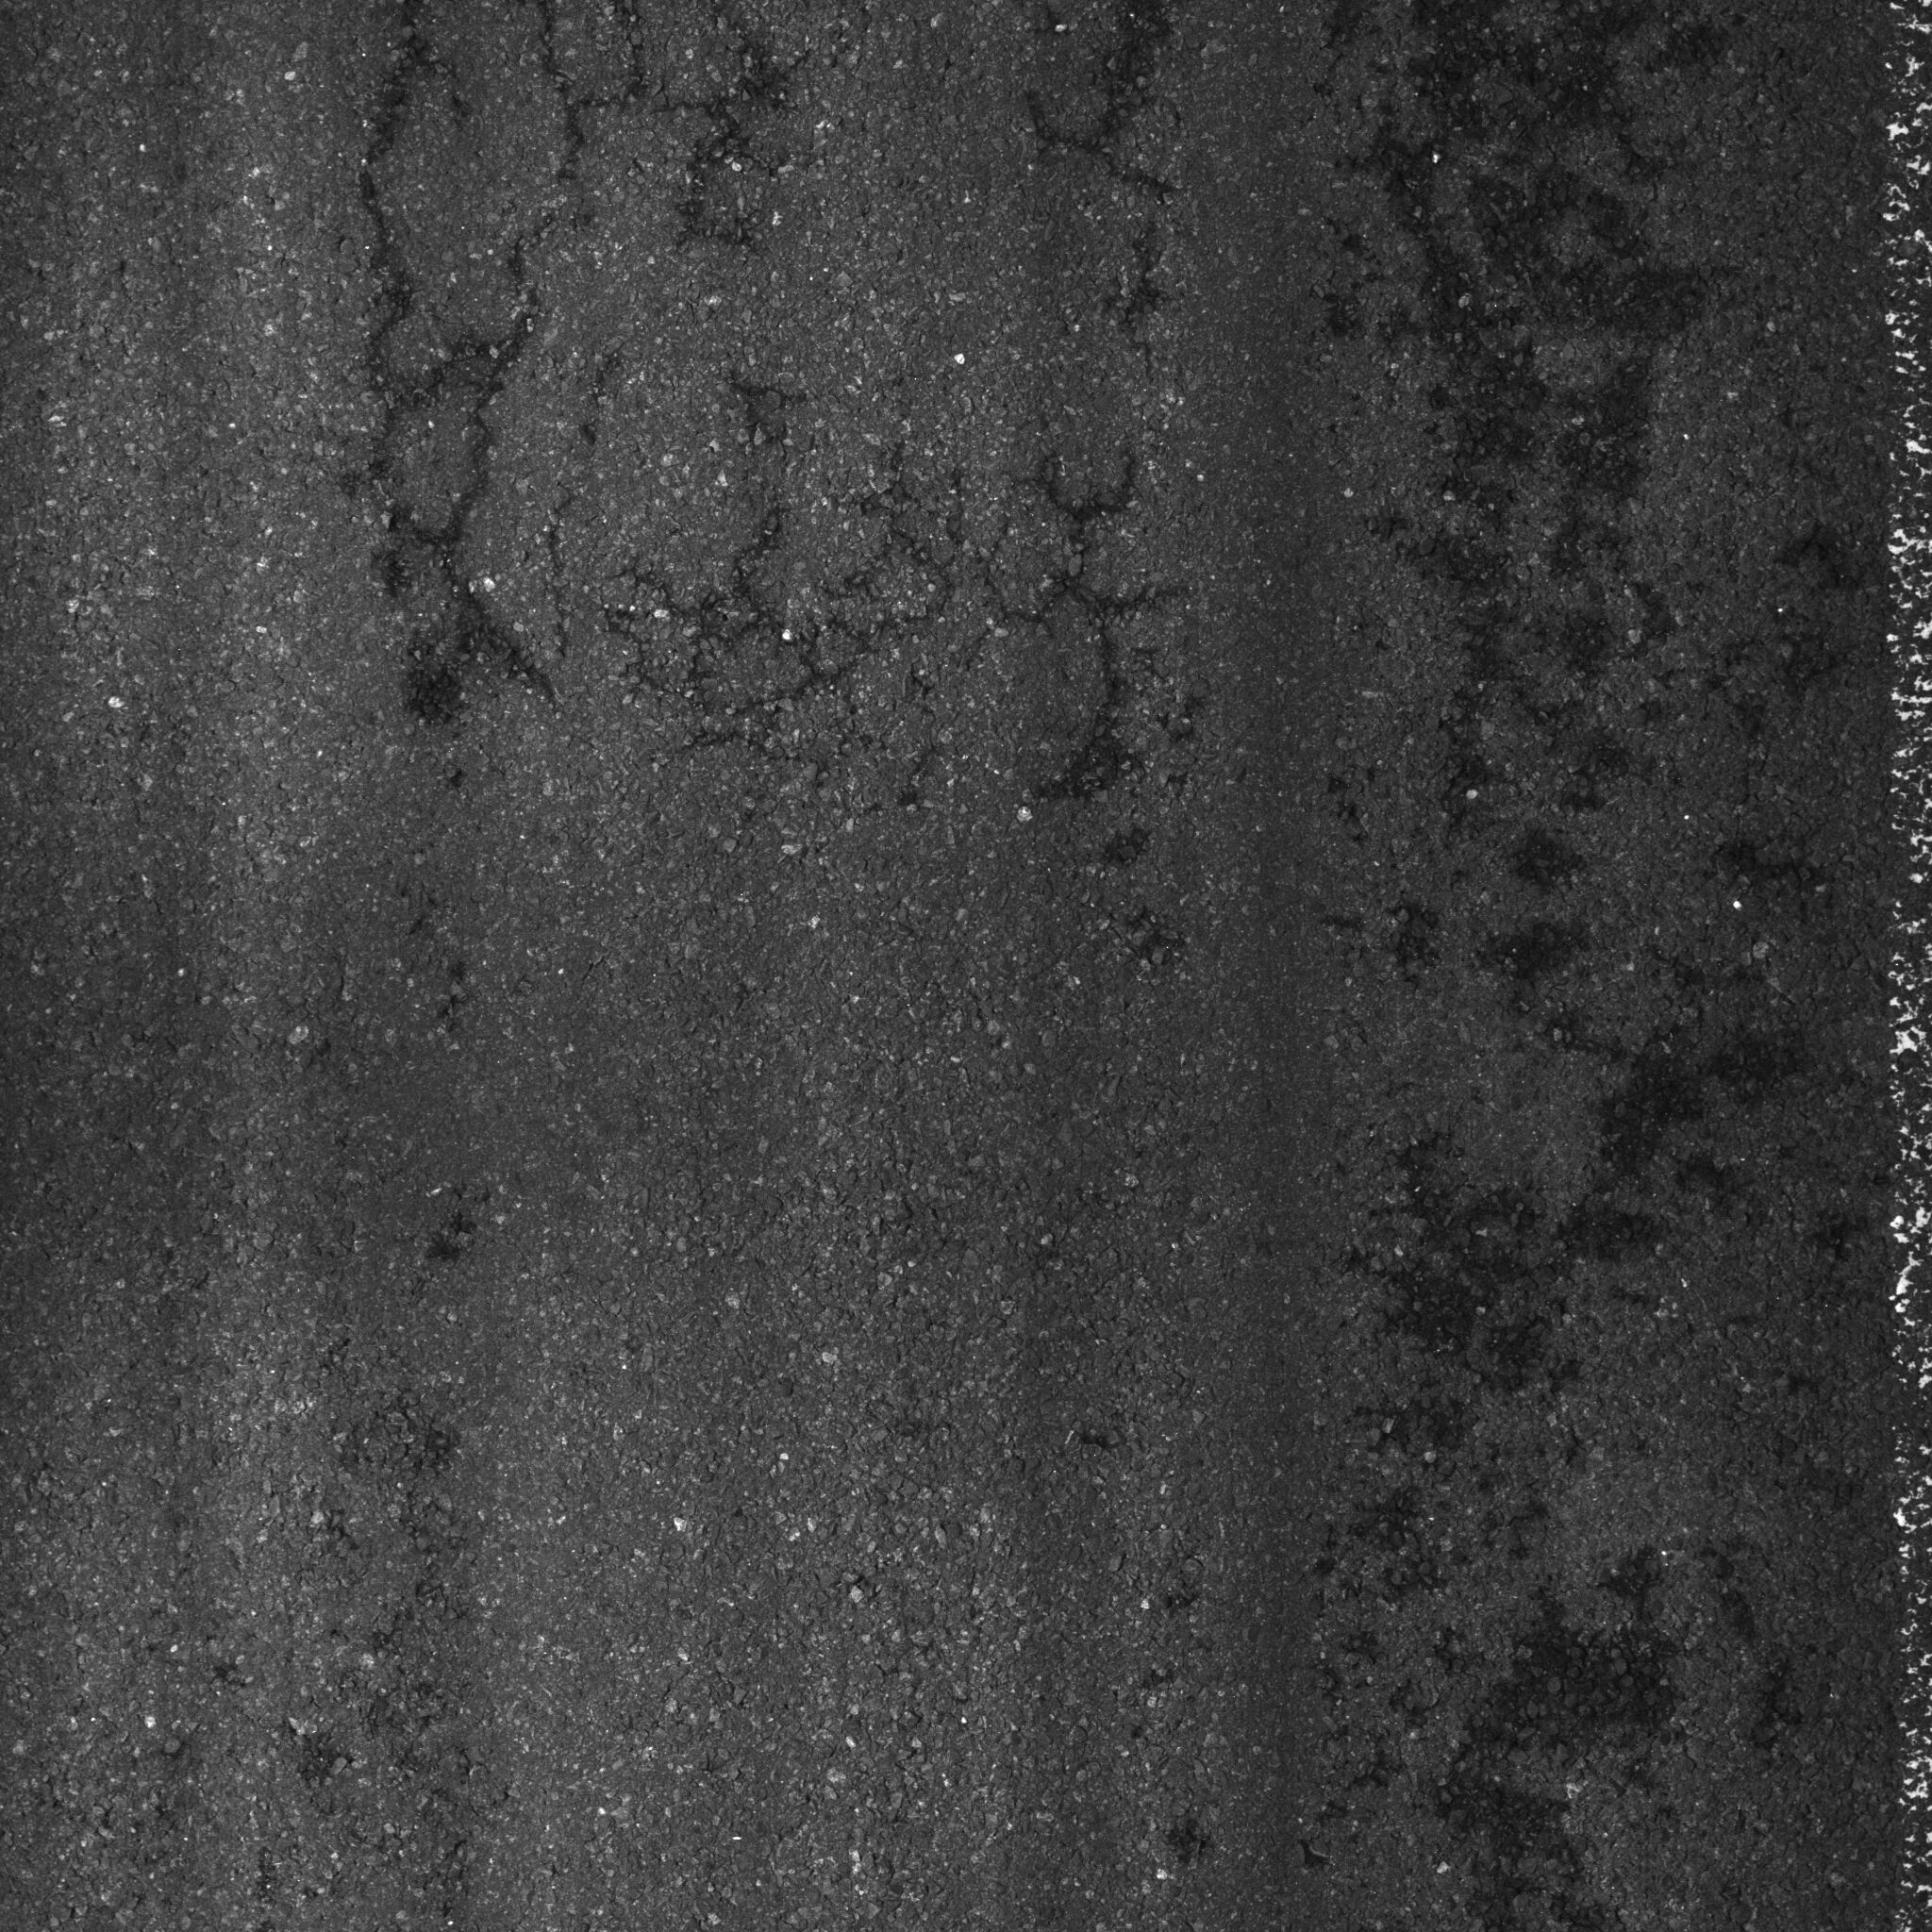alligator: (324, 2, 1208, 814)
